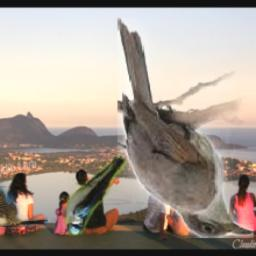Cuckoo: (119, 19, 255, 239), (0, 174, 48, 227)
Swallow: (64, 154, 128, 236)
